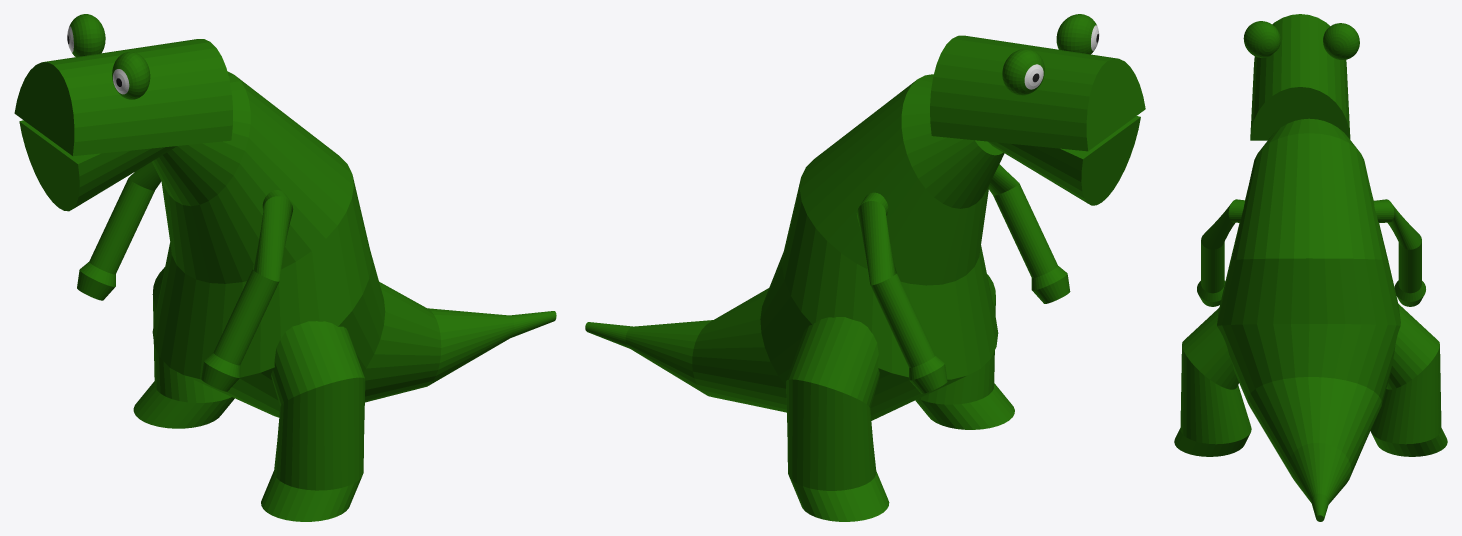
The model's file is trex.fbx.
3 renders of one model, left to right at view 1: azimuth 30°, elevation 25°; view 2: azimuth 150°, elevation 25°; view 3: azimuth 270°, elevation 25°, orthographic. The views are drawn at different scales.
Parts seen in each view (by area): view 1: LowerJaw; view 2: LowerJaw; view 3: LowerJaw.
Part boxes in pixels (x1,y1,x2,y2): LowerJaw: (14,14,556,521); LowerJaw: (585,14,1145,521); LowerJaw: (1174,14,1447,521).
Bounding box in the file's own units: 1037 × 869 × 590.
